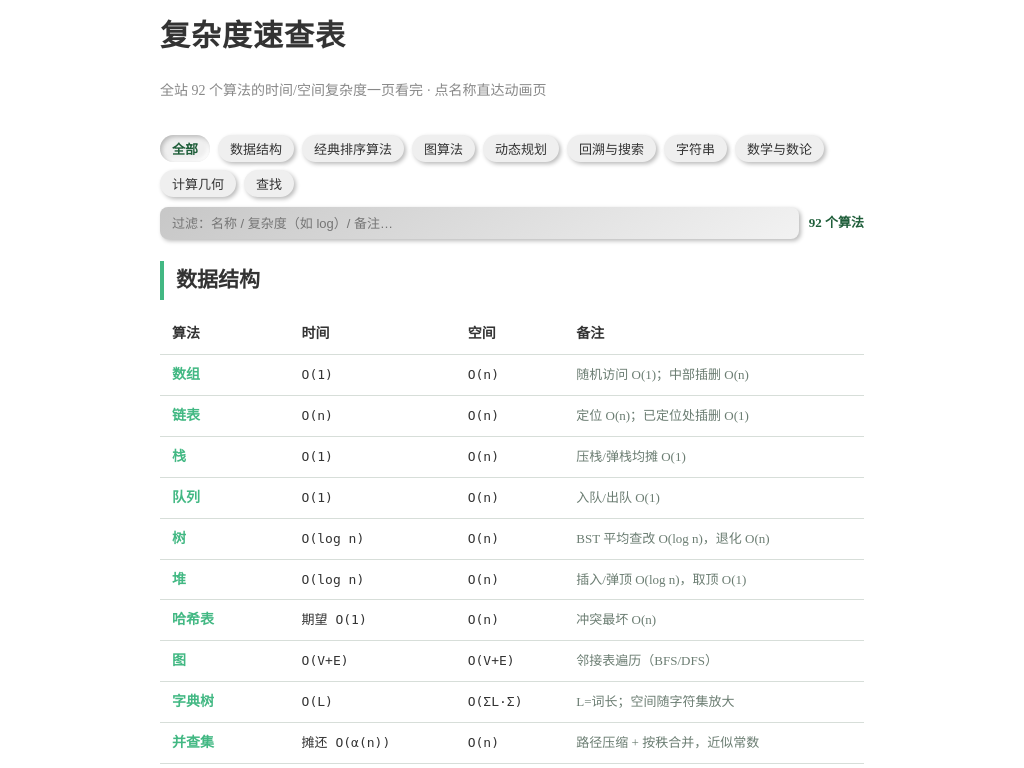
复杂度速查页 › TC-VIEW-CPLX-03 关键词过滤缩减条目、空组隐藏
Step 1. Type "生日悖论" into the field with class "cx-kw" → [479, 223], box 160,207 -> 799,239
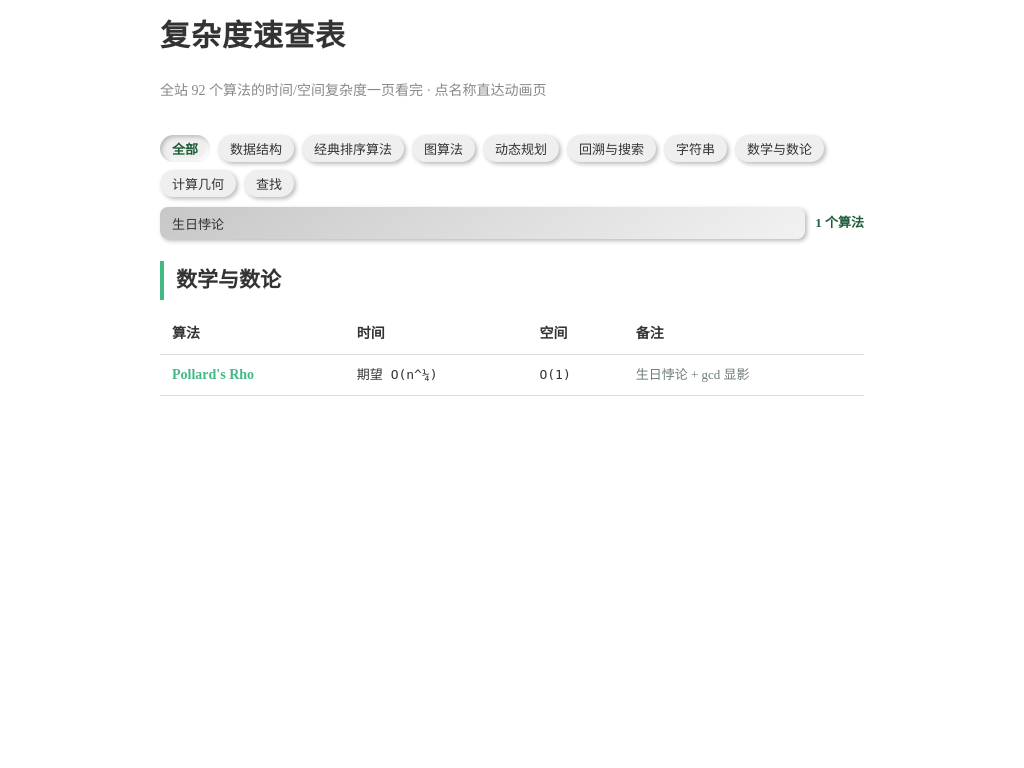
Expected: the text "Pollard's Rho" is shown, 172,367 -> 254,382
Now the number of elements with class "cx-group" is 1, box 160,261 -> 864,396
Step 2. Replace the text in the field with class "cx-kw" with "绝不存在xyz" → [483, 223], box 160,207 -> 805,239
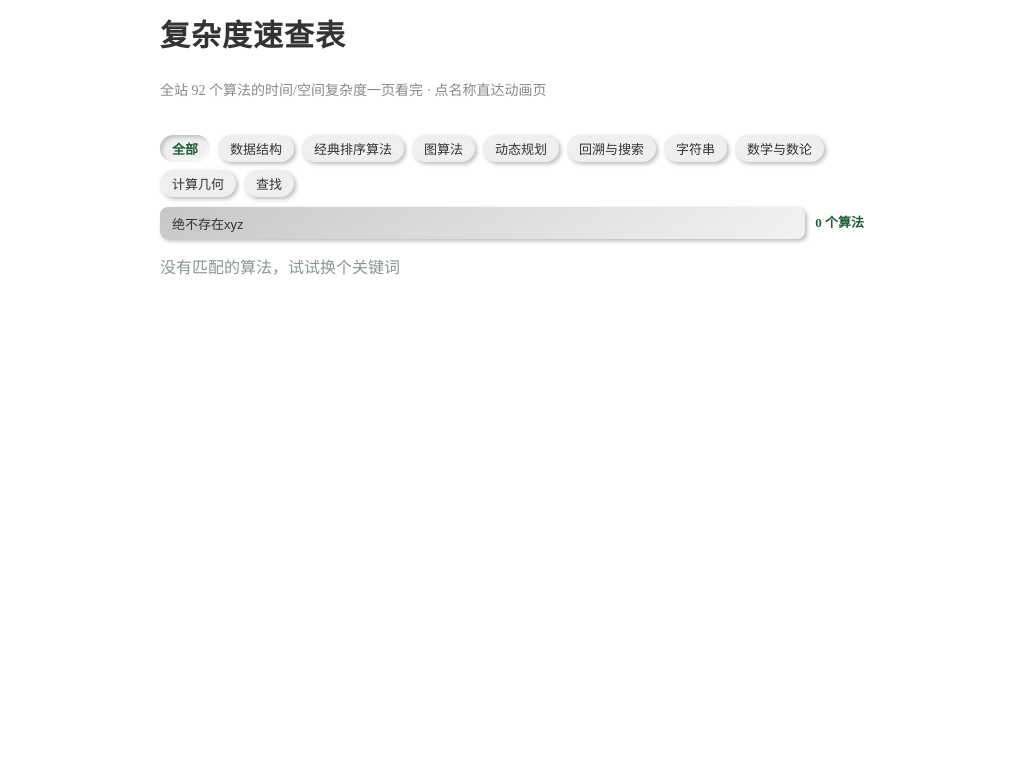
Now the text "没有匹配的算法，试试换个关键词" is shown, box 160,259 -> 400,276
